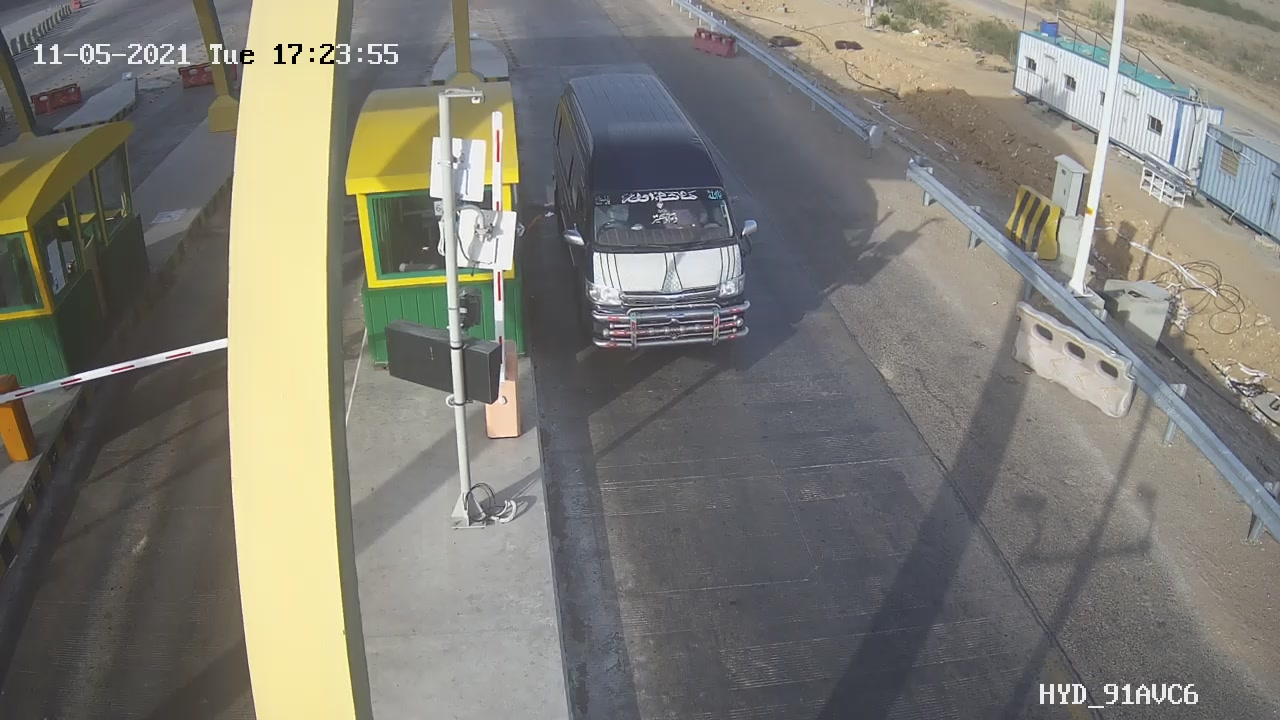F2: (530, 53, 785, 385)
